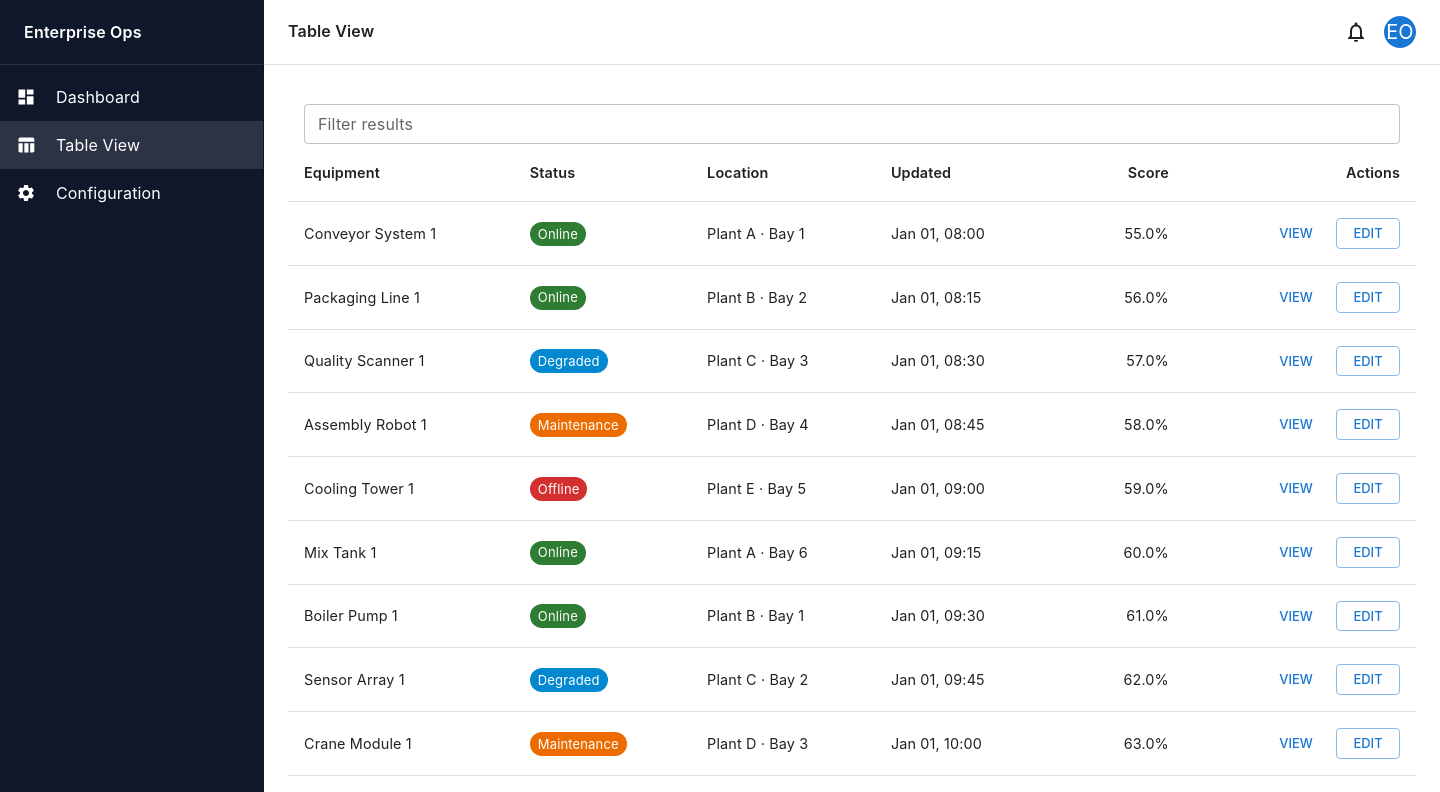
it: TableViewPage › filters equipment rows via the table filter input
Expected: the text "Packaging Line 1" is shown, [288, 265, 514, 329]
Type "Conveyor System 1" into the field labelled "Filter results". click: [852, 124]
box: [304, 104, 1400, 144]
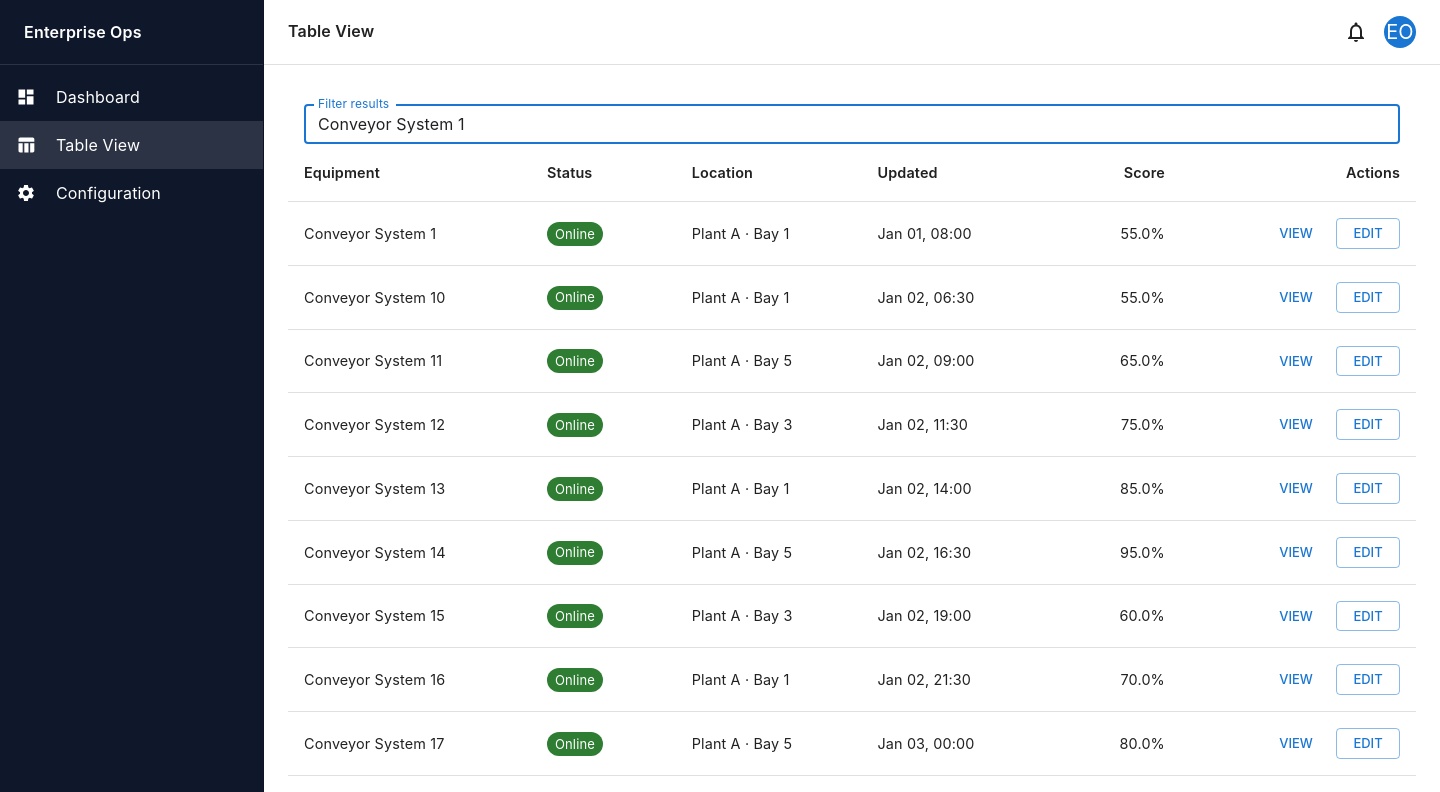
Expected: the text "Conveyor System 1" is shown, [288, 202, 531, 265]
Expected: the text "Packaging Line 1" is gone
